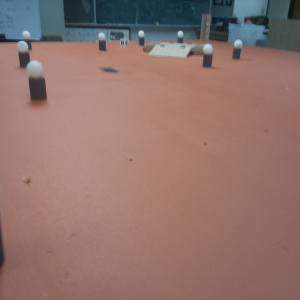blockB: (121, 39, 129, 47)
corner: (199, 13, 213, 42)
obstacle: (26, 61, 50, 101), (16, 42, 32, 60), (231, 39, 244, 60), (203, 45, 213, 68), (97, 30, 107, 53), (19, 30, 34, 41), (137, 26, 146, 41), (177, 29, 184, 41)
side: (193, 46, 203, 55), (143, 44, 153, 51)
slope: (155, 42, 187, 58)
start: (99, 65, 119, 75)
